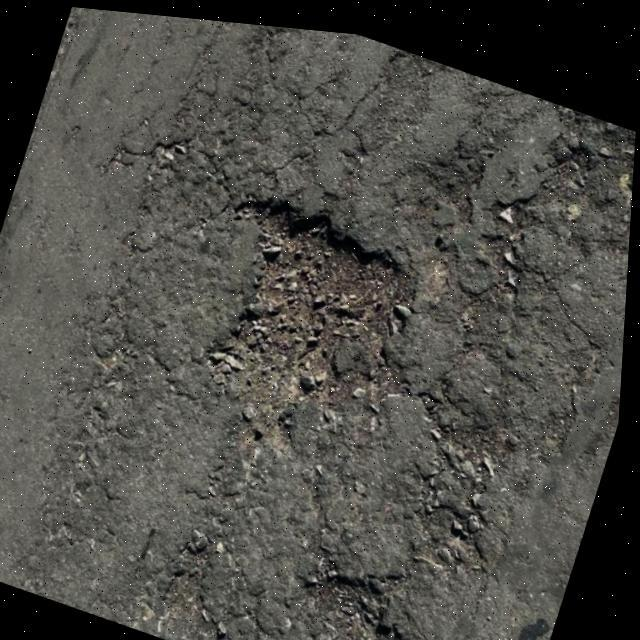pothole: (170, 168, 456, 480), (283, 548, 447, 640)
